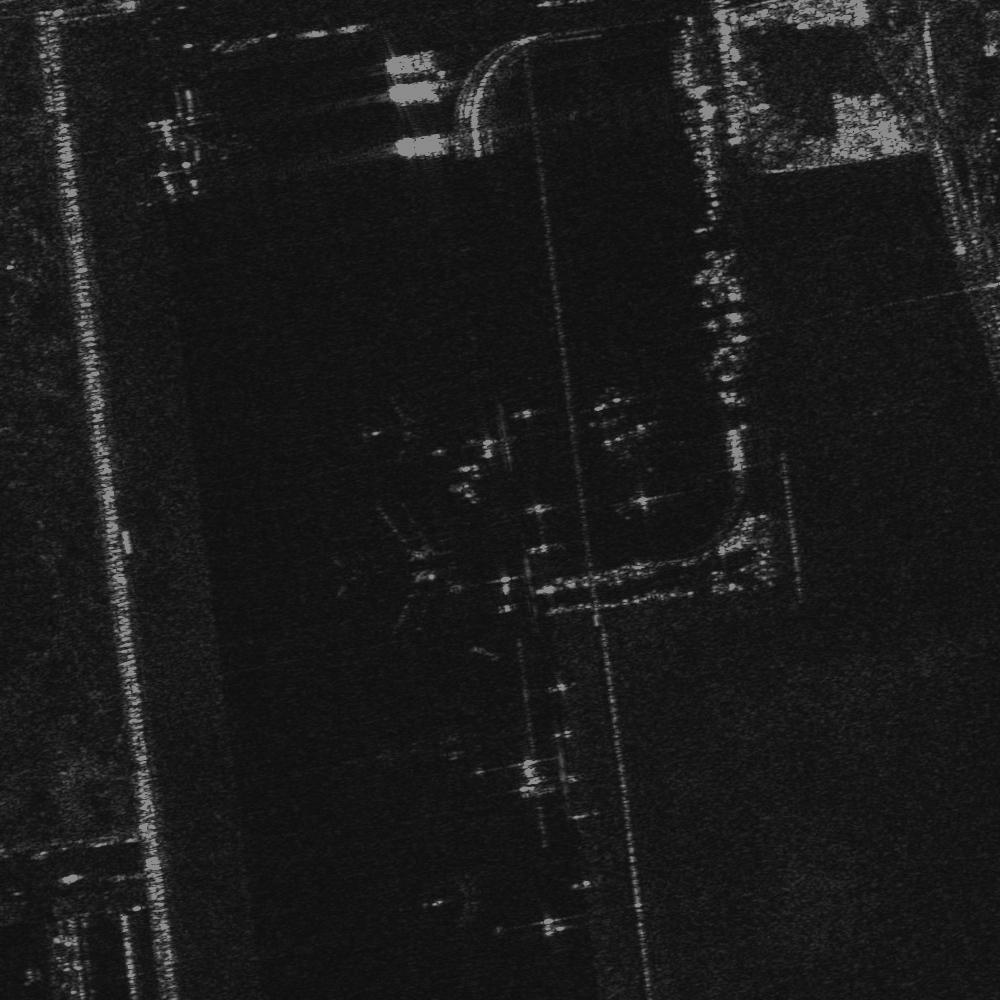Boeing787: (325, 499, 464, 641), (352, 391, 438, 469), (417, 864, 500, 930)
other: (116, 104, 253, 203)
